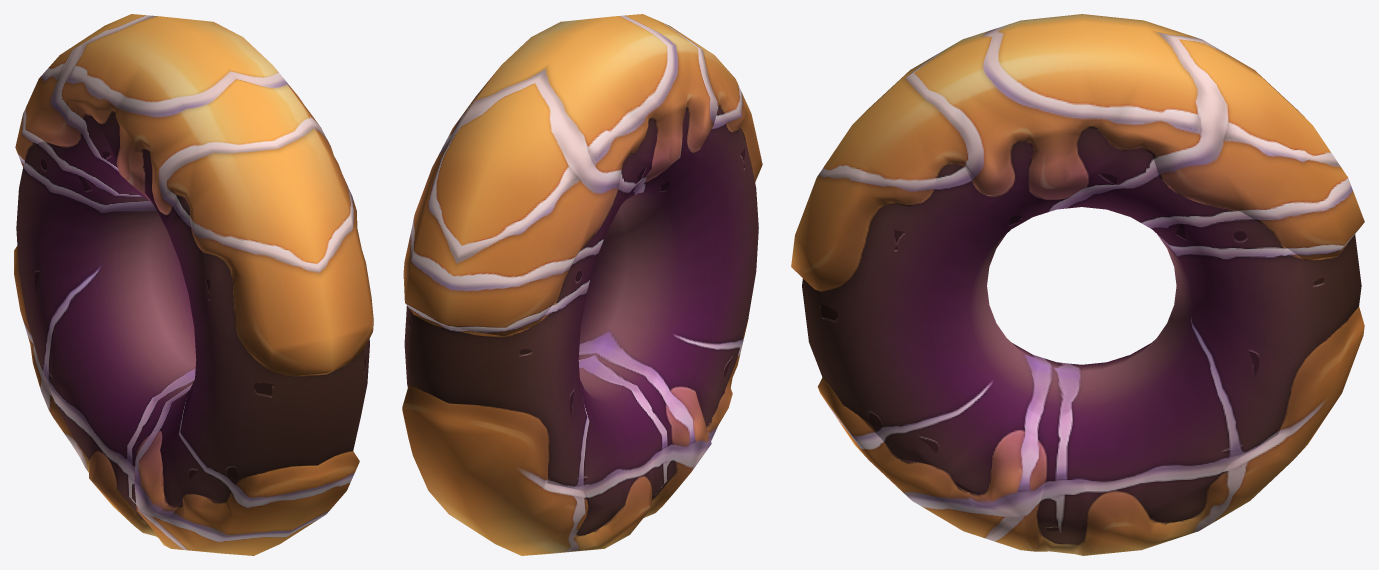
The model's file is scenes_candy_dontuts01.FBX.
3 views of the same model, side by side, from view 1: azimuth 30°, elevation 25°; view 2: azimuth 150°, elevation 25°; view 3: azimuth 270°, elevation 25° (orthographic). The views are drawn at different scales.
Visible parts, largest first — view 1: scenes_candy_dontuts01; view 2: scenes_candy_dontuts01; view 3: scenes_candy_dontuts01.
Boxes of the visible parts, x1,y1,x2,y2 form: scenes_candy_dontuts01: (14,14,373,555); scenes_candy_dontuts01: (402,14,762,555); scenes_candy_dontuts01: (791,14,1364,555).
Size of the model in its own units: 272 by 789 by 781.
